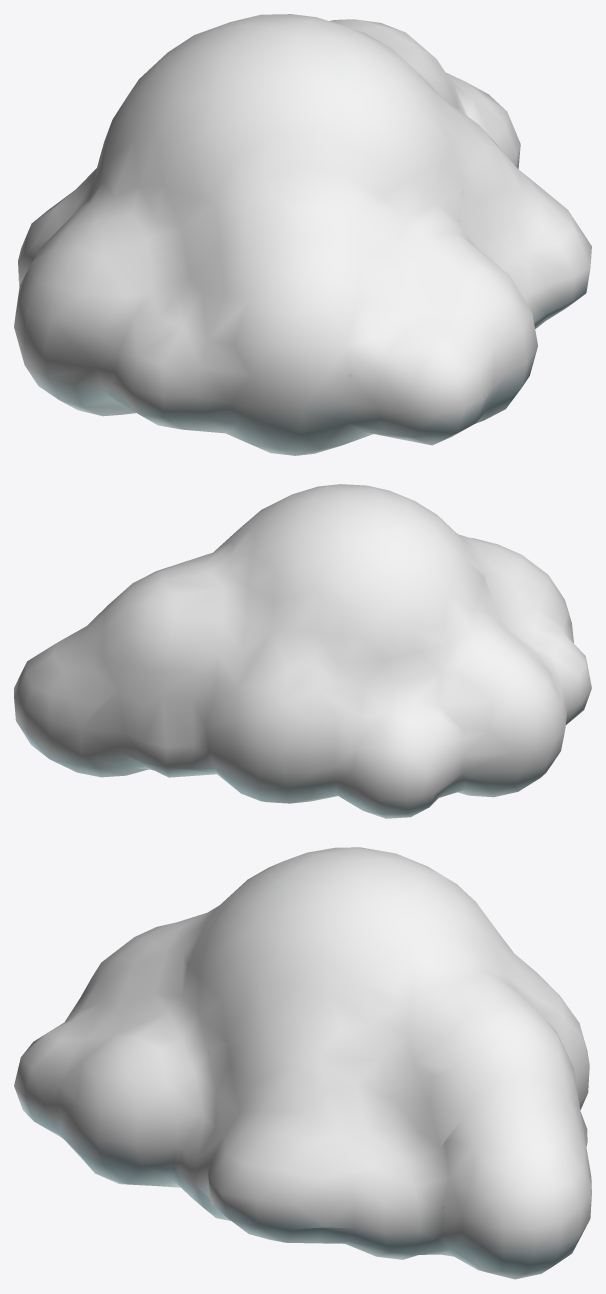
The model's file is JuniorFactory_SlicerClone_Cloud_v1.fbx.
The picture shows the model from 3 angles, top to bottom: view 1: azimuth 30°, elevation 25°; view 2: azimuth 150°, elevation 25°; view 3: azimuth 270°, elevation 25°; orthographic projection. The views are drawn at different scales.
Visible parts, largest first — view 1: Cloud; view 2: Cloud; view 3: Cloud.
Part boxes in pixels (x1,y1,x2,y2): Cloud: (14, 14, 591, 455); Cloud: (14, 484, 591, 818); Cloud: (14, 847, 591, 1279).
Bounding box in the file's own units: 1074 × 608 × 1010.
1 material, 1 textured.
